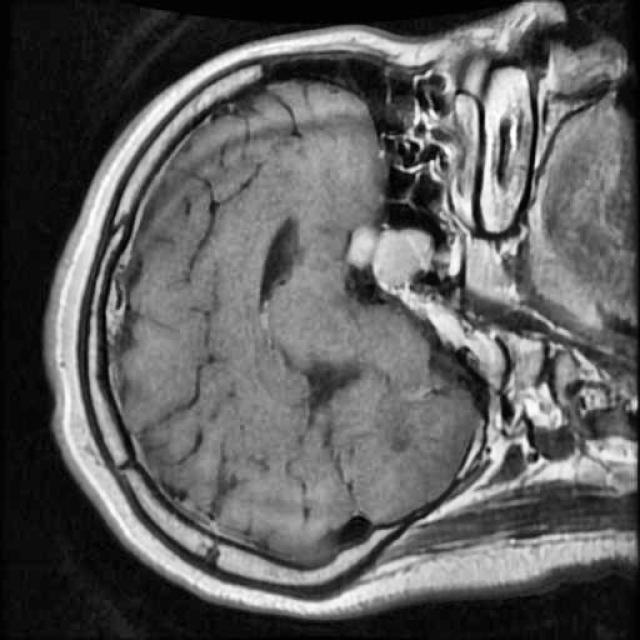Tumor: (335, 210, 446, 296)
